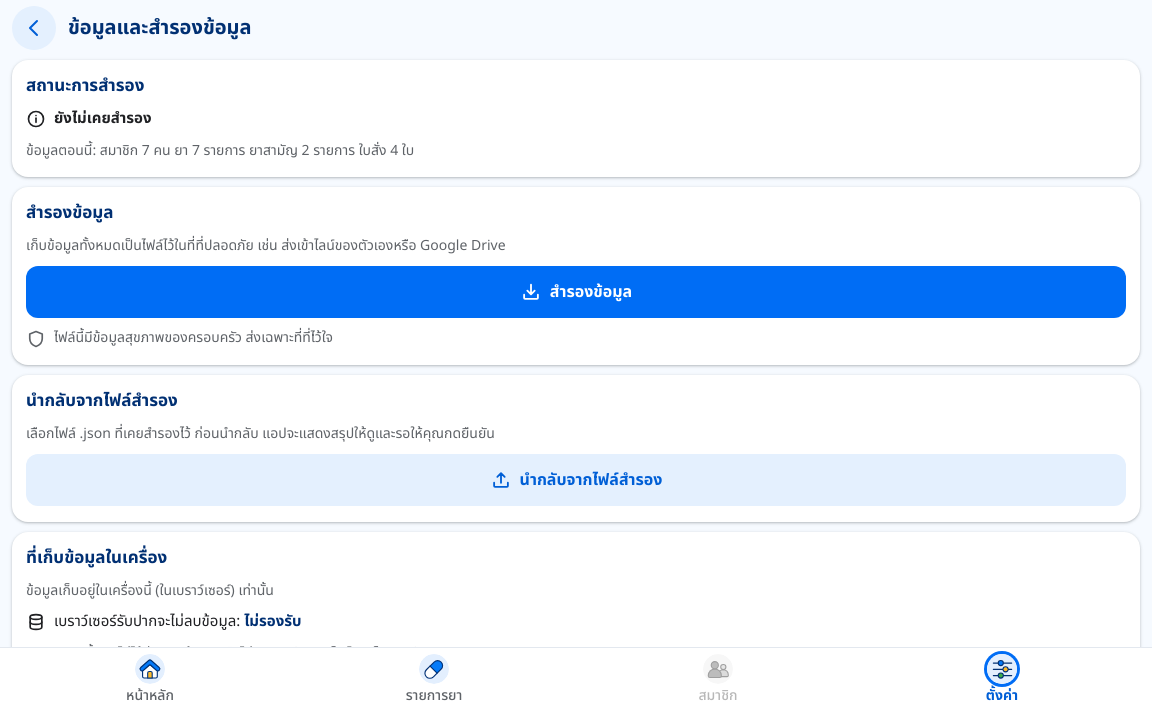
Test case: back up › shared: the file is a v3 root without the real settings; the date is saved; success is shown
Click the button "สำรองข้อมูล".
click(576, 292)  # box [26,266,1126,318]
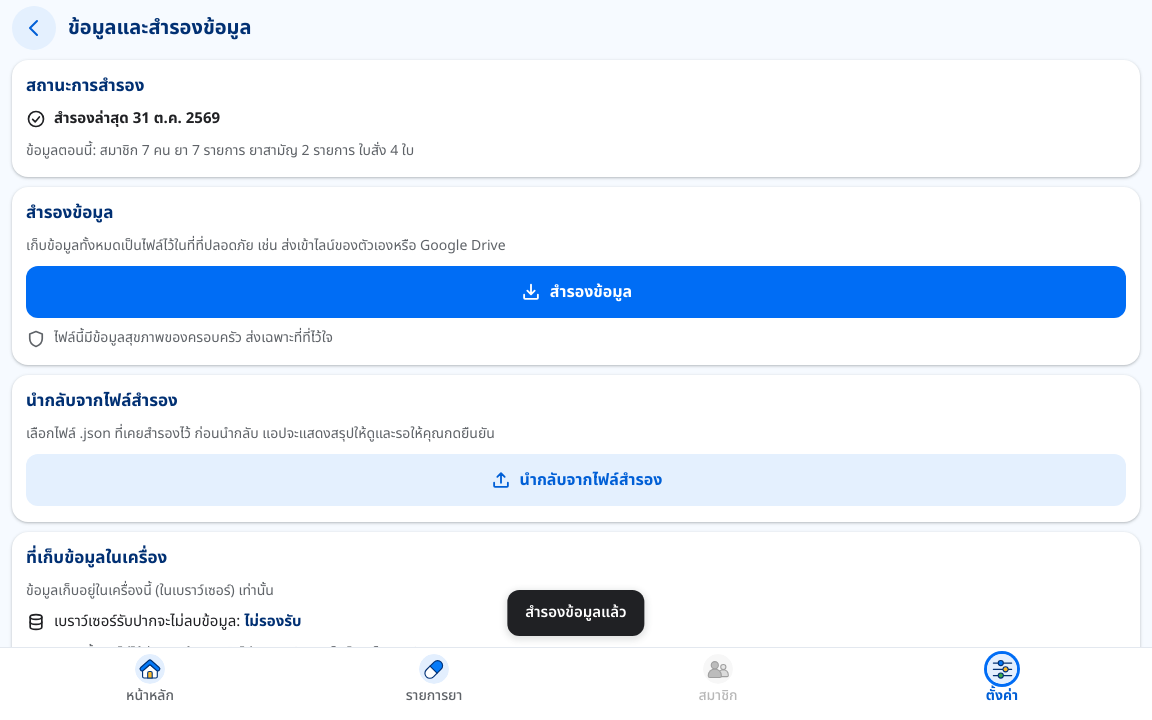
Result: the text "สำรองข้อมูลแล้ว" is shown at [507,590,645,636]
Result: the text "สำรองล่าสุด 31 ต.ค. 2569" is shown at [54,108,220,130]
